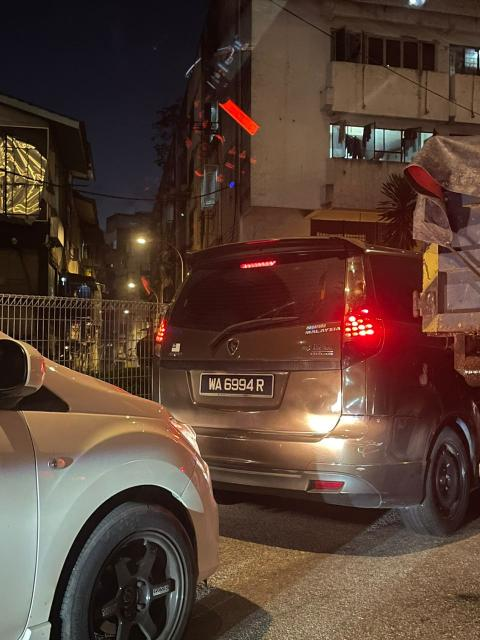License_Plate: (196, 369, 274, 403)
car: (148, 225, 480, 530)
